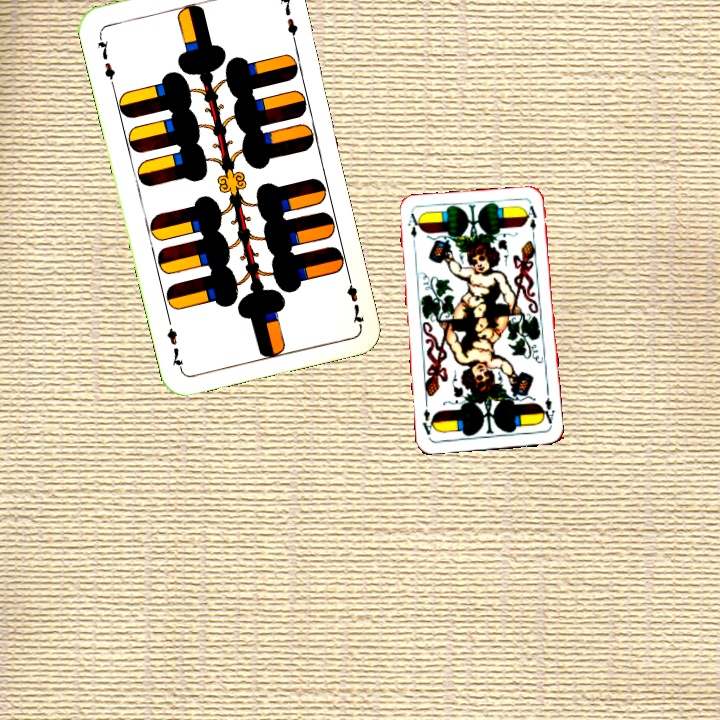E7: (93, 30, 118, 89), (343, 269, 367, 328)
EA: (404, 209, 423, 250), (537, 393, 557, 429)
